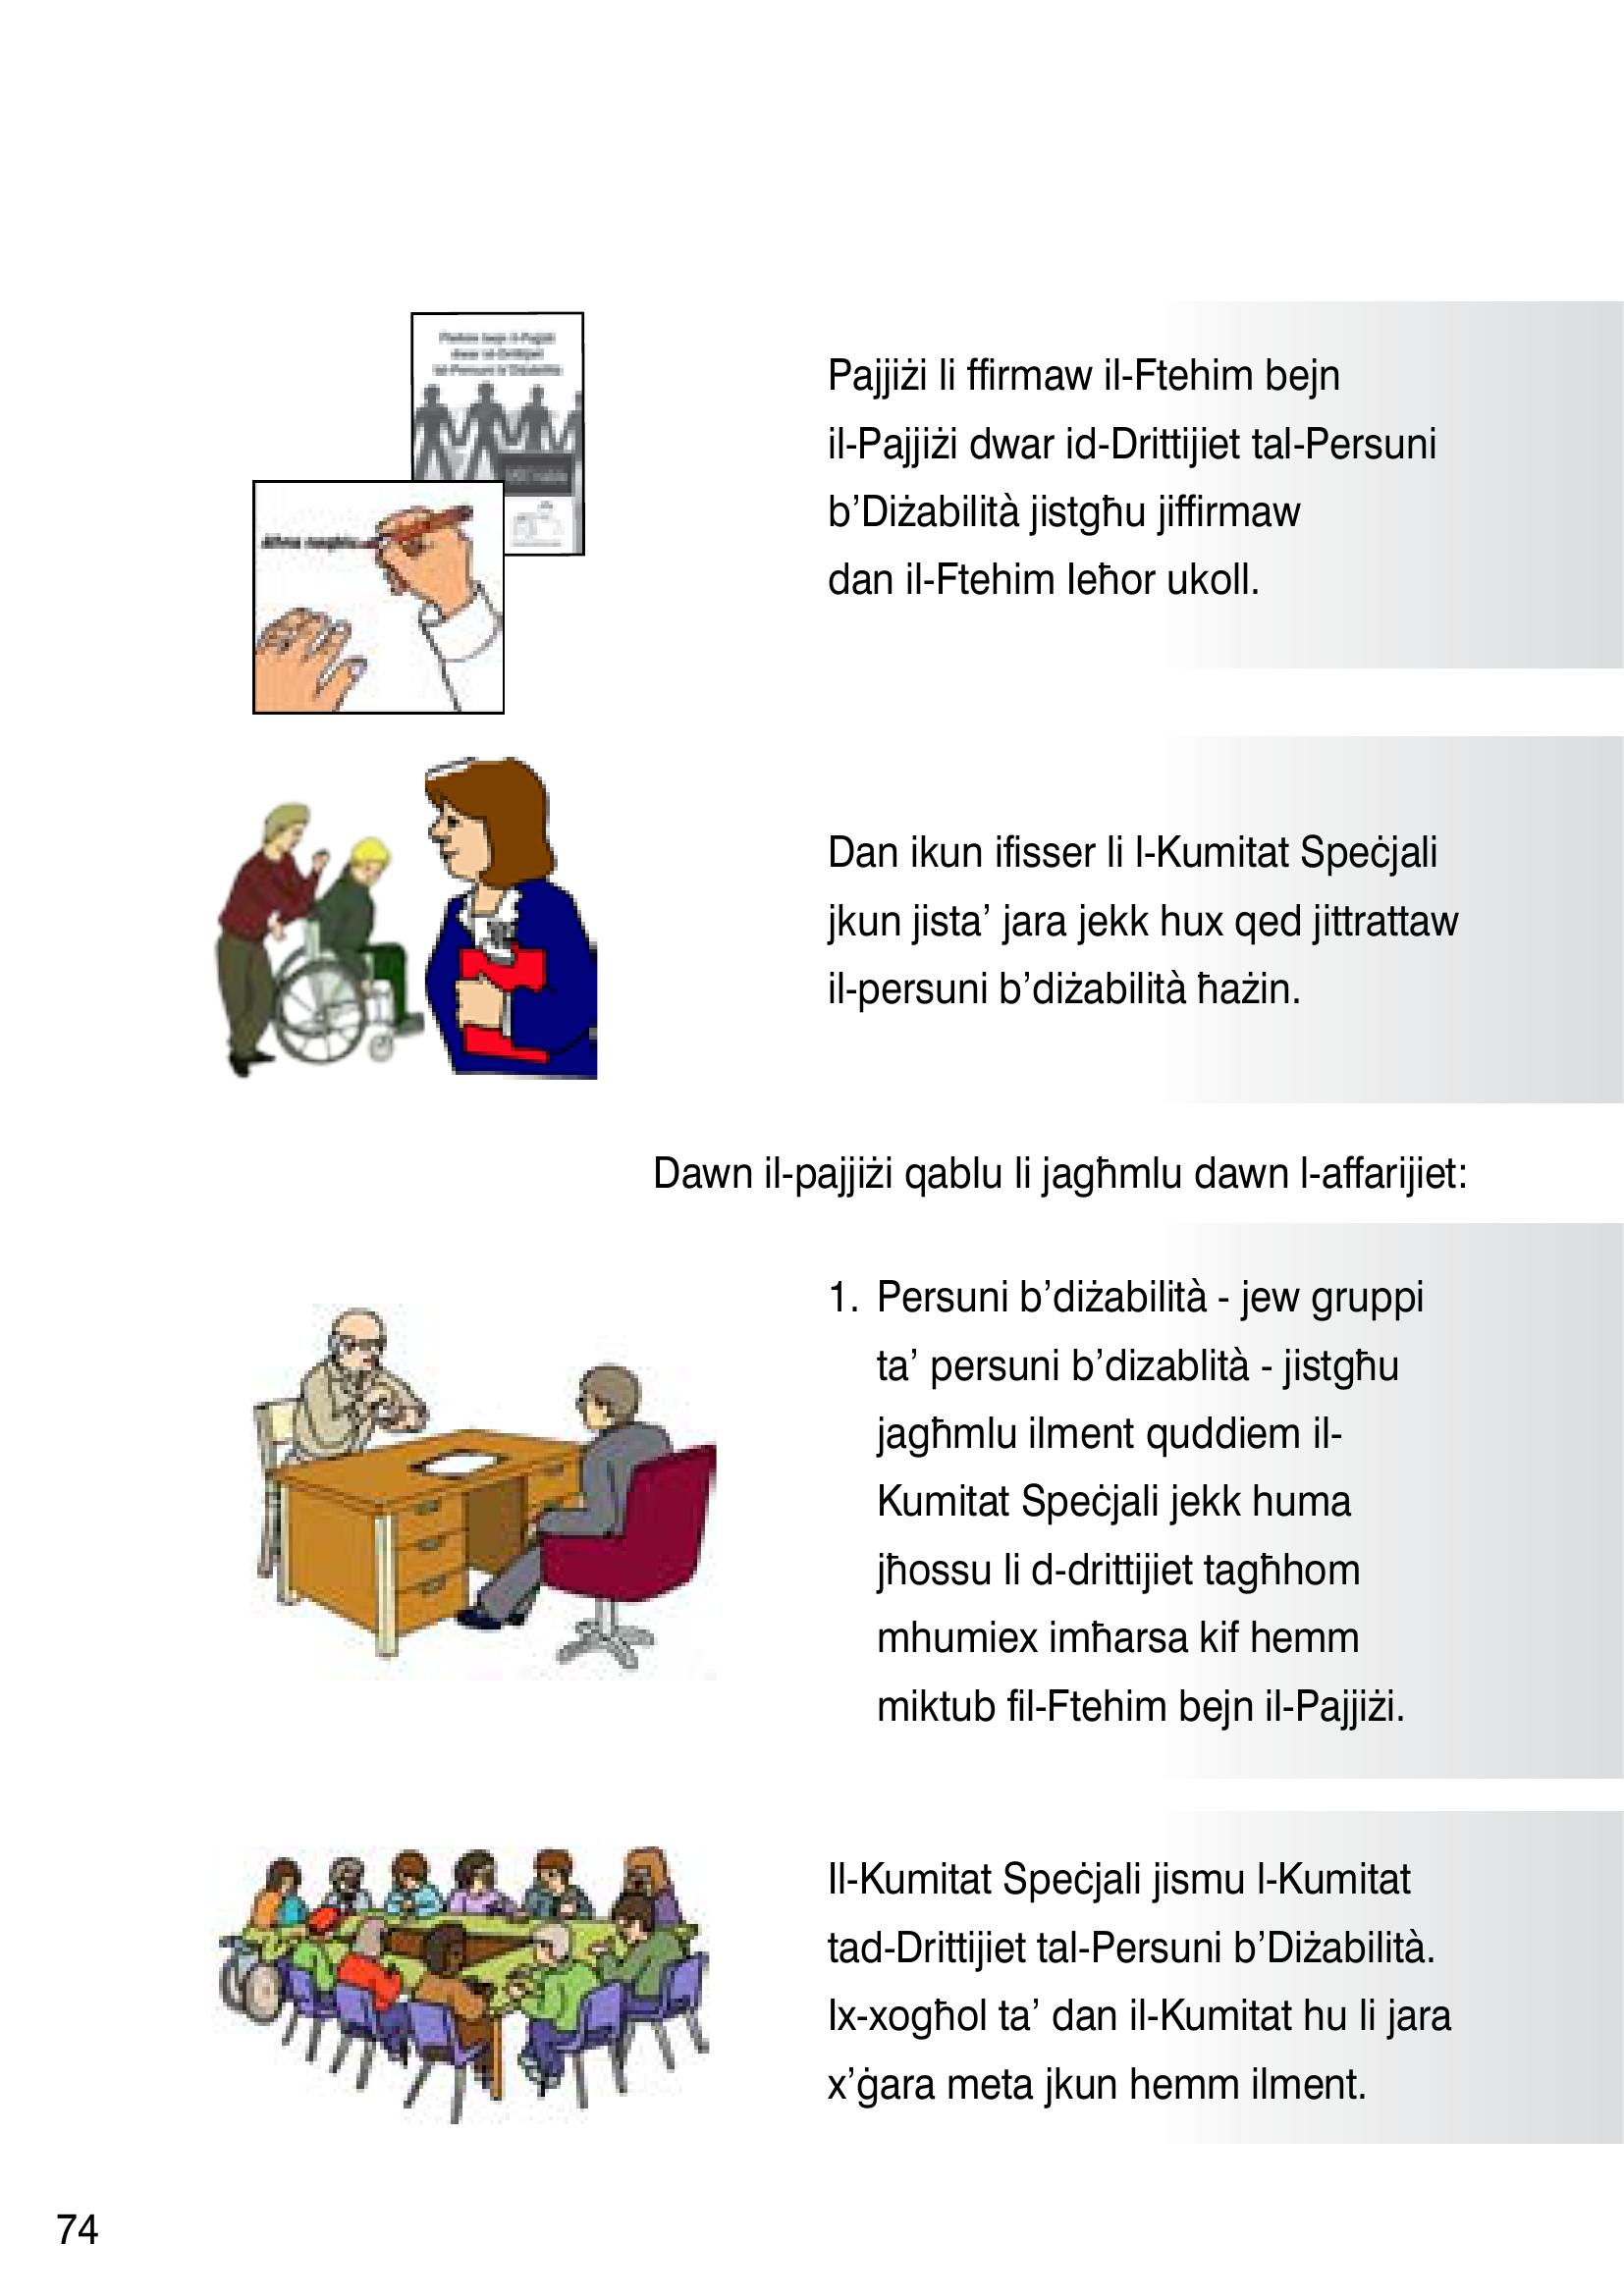text: (777, 1256, 1534, 2133), (759, 302, 1513, 1056), (615, 1114, 1526, 1231)
